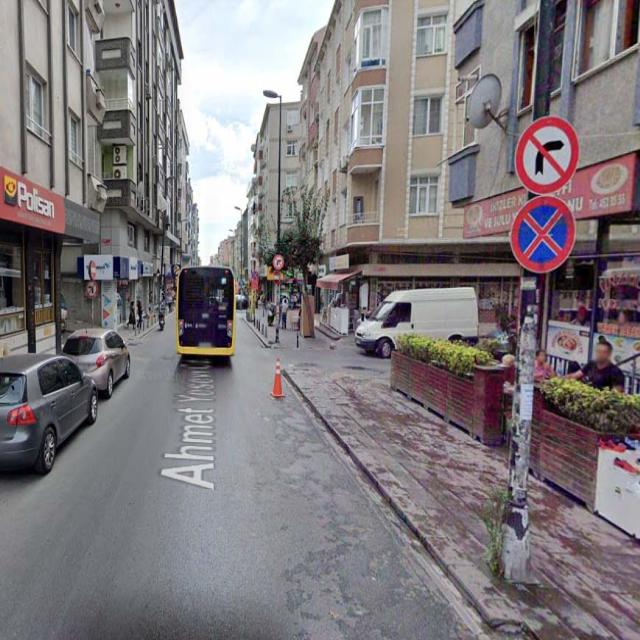sagadonulmez: (514, 116, 578, 193)
